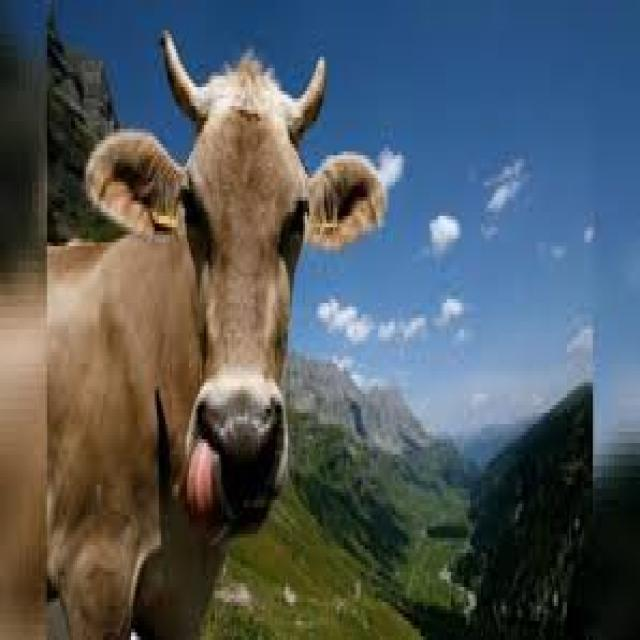cow: (127, 94, 335, 524)
